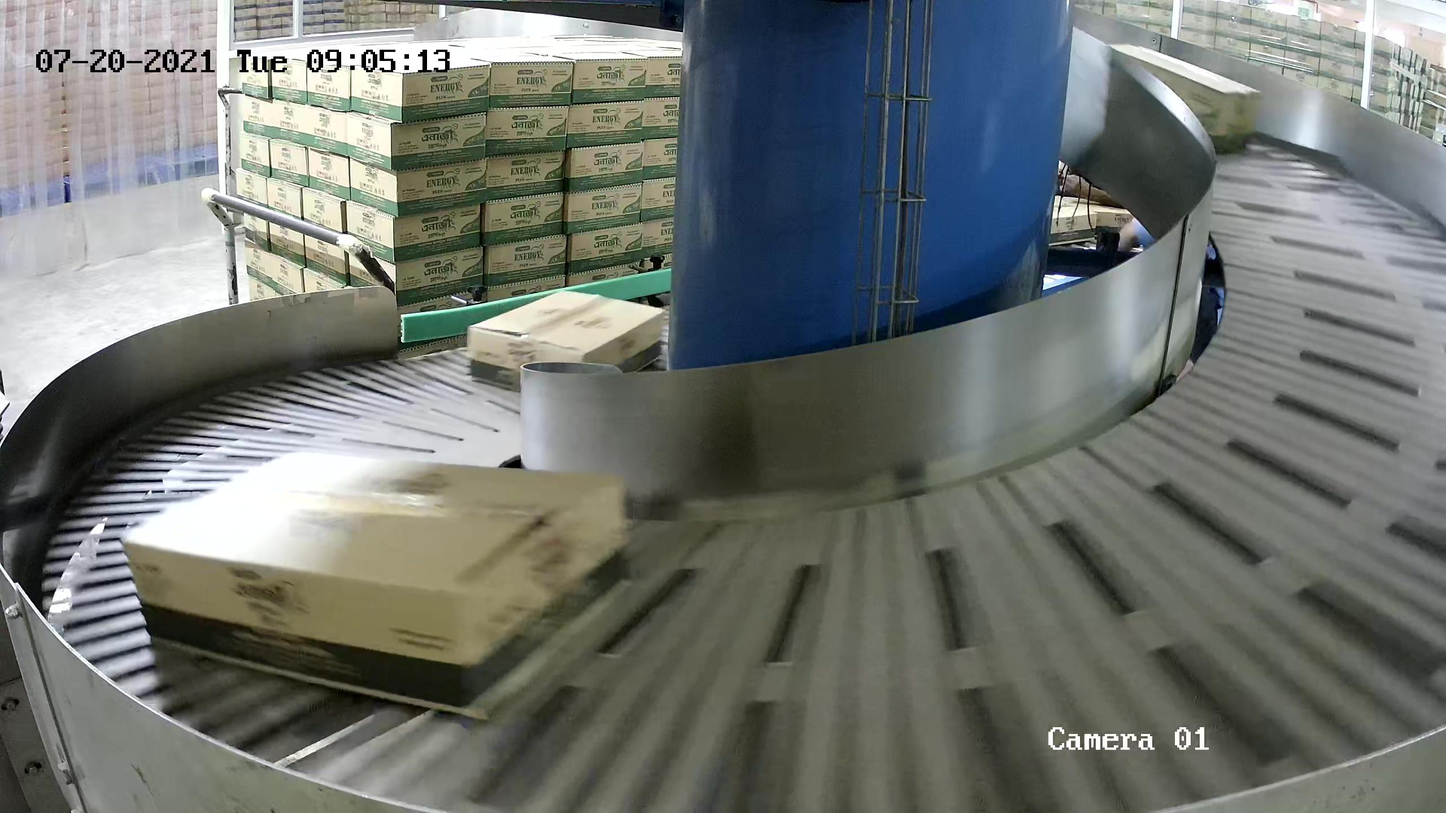Box: (117, 444, 640, 727), (464, 286, 666, 392), (1103, 39, 1262, 154)
